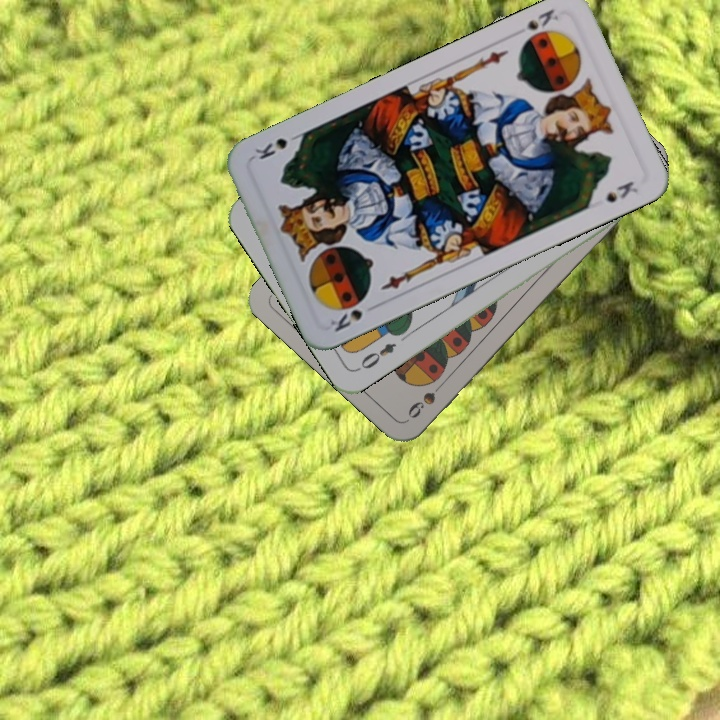EO: (353, 339, 399, 374)
S9: (404, 375, 450, 422)
SK: (326, 300, 381, 335), (522, 5, 561, 33)
